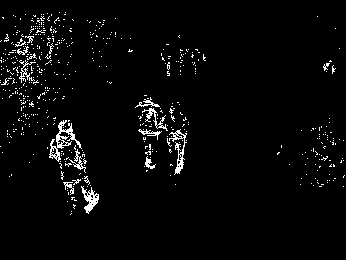person: (48, 117, 100, 213), (157, 98, 190, 176), (135, 91, 166, 173)
